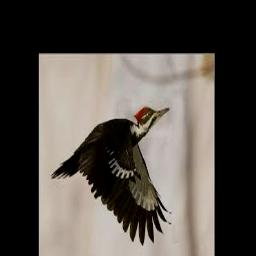Woodpecker: (51, 106, 172, 246)
